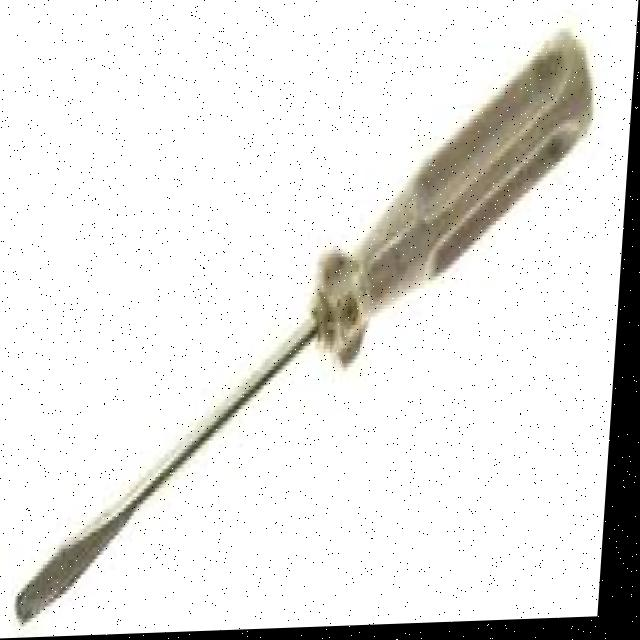Screwdriver: (26, 40, 594, 623)
